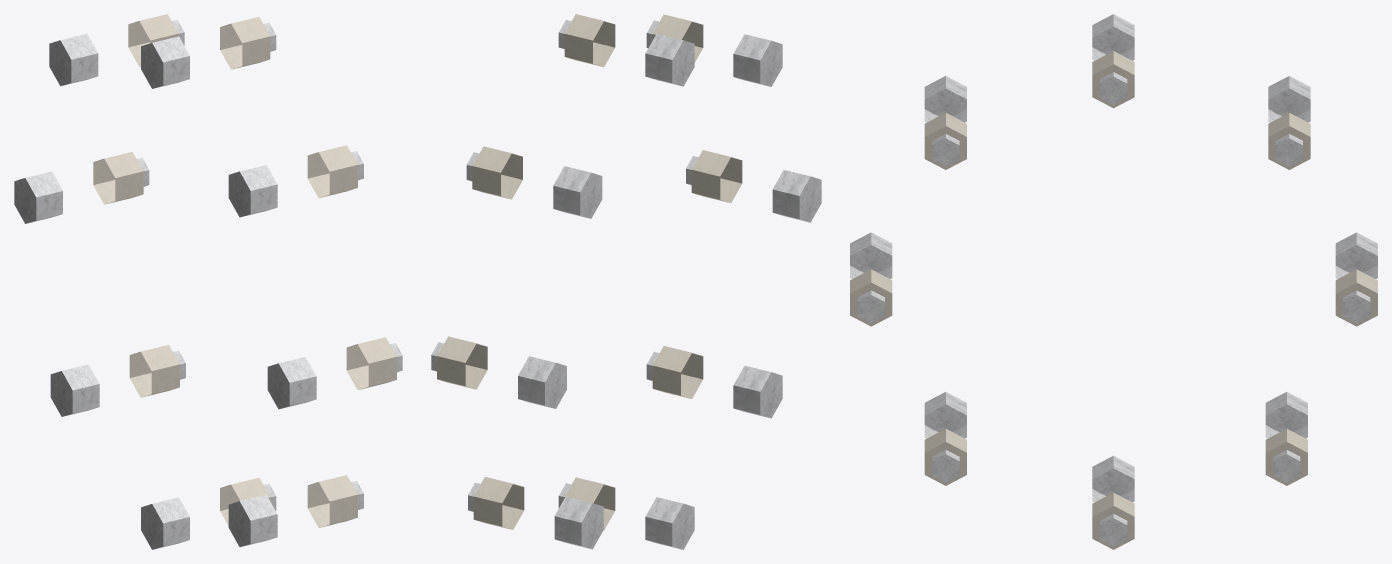
The model's file is BoltSetSm.fbx.
3 renders of one model, left to right at view 1: azimuth 30°, elevation 25°; view 2: azimuth 150°, elevation 25°; view 3: azimuth 270°, elevation 25°, orthographic. The views are drawn at different scales.
Visible parts, largest first — view 1: boltsnoflange1; view 2: boltsnoflange1; view 3: boltsnoflange1.
Part boxes in pixels (x1=…): boltsnoflange1: x1=14, y1=14, x2=402, y2=549; boltsnoflange1: x1=431, y1=14, x2=821, y2=549; boltsnoflange1: x1=850, y1=14, x2=1377, y2=549.
Size of the model in its own units: 0.0982 by 0.4065 by 0.4001.
